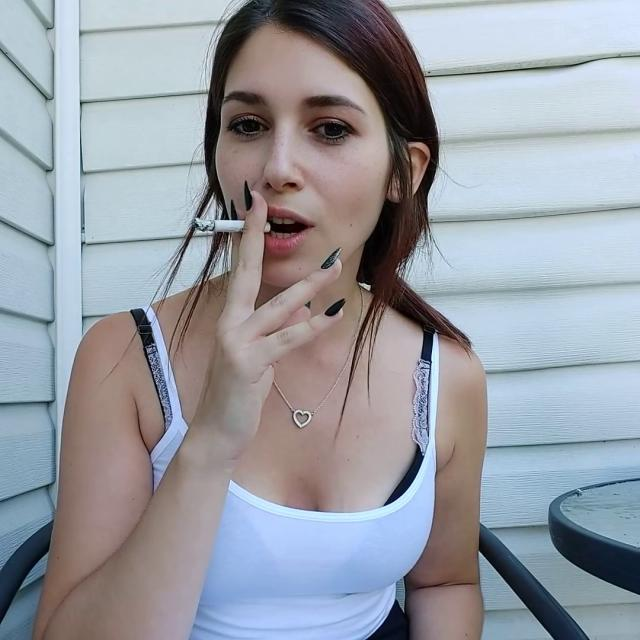Cigarette: (195, 221, 271, 232)
Hand: (177, 190, 346, 454)
Mouth: (253, 200, 320, 253)
